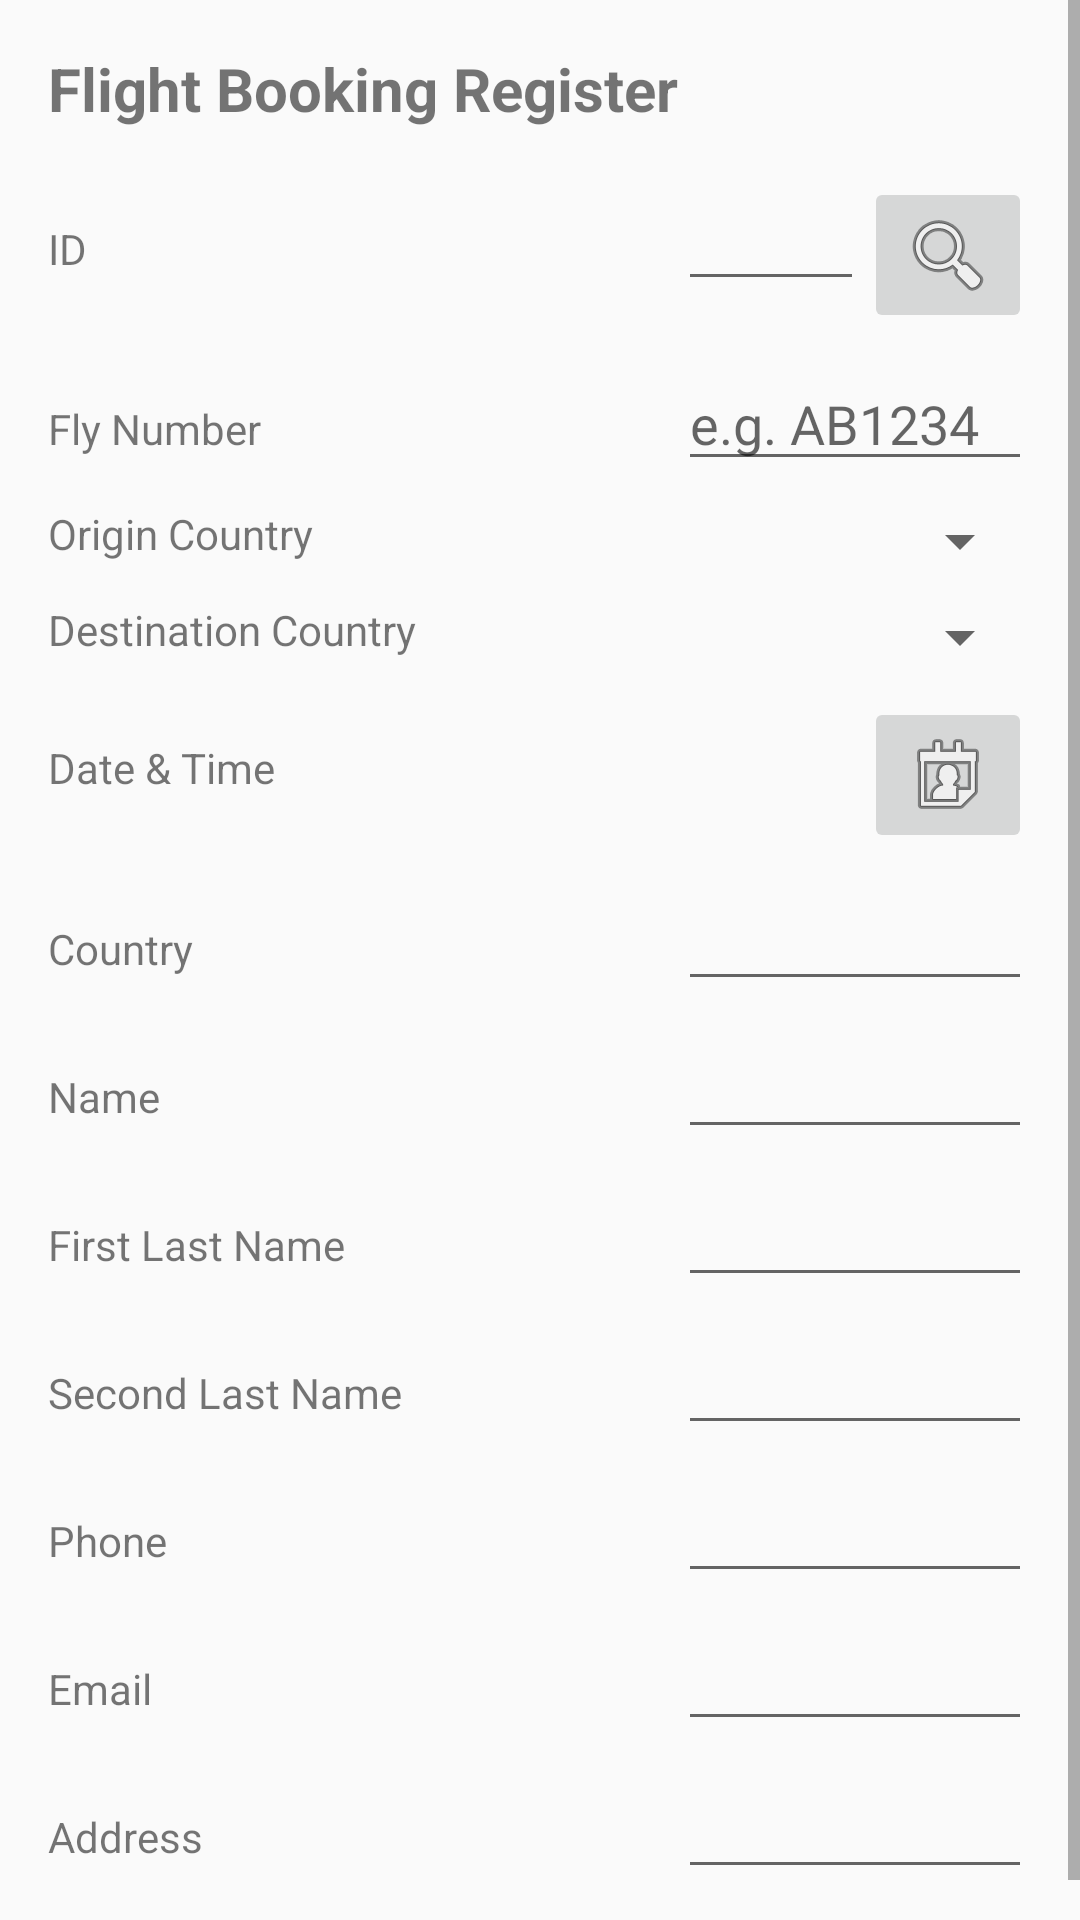

Icons on this 1080 x 1920 Android screen, each with its box as (x1, y1, x2, y2):
Search ID: (876, 195, 1020, 315)
Select Date: (876, 715, 1020, 835)
